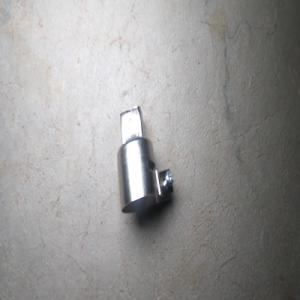MetalPart: (116, 104, 174, 213)
